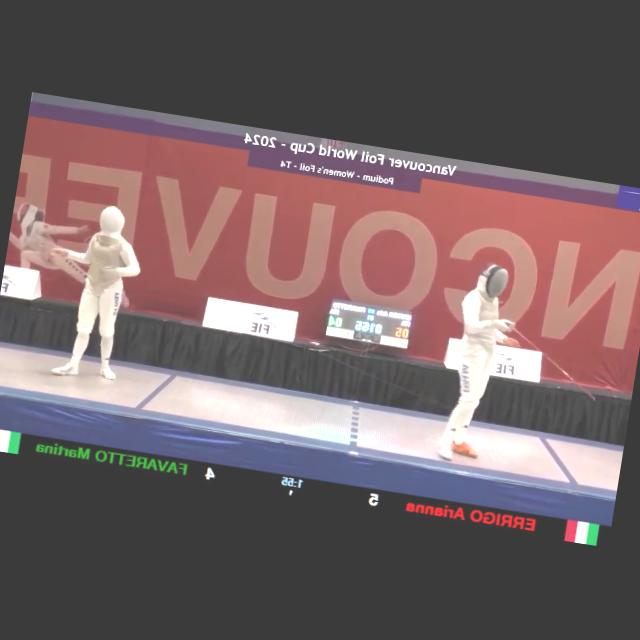blade: (496, 320, 607, 401)
